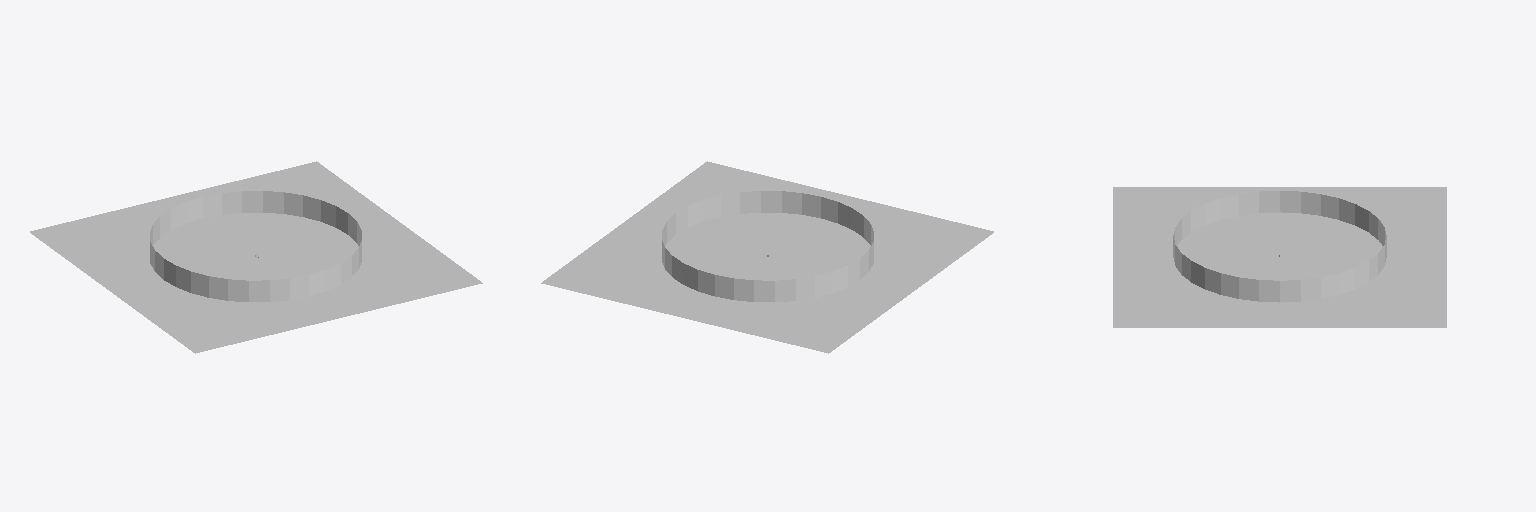
The model's file is prism1.obj.
3 views of the same model, side by side, from view 1: azimuth 30°, elevation 25°; view 2: azimuth 150°, elevation 25°; view 3: azimuth 270°, elevation 25° (orthographic).
Bounding box in the file's own units: 400 × 53.7 × 400.